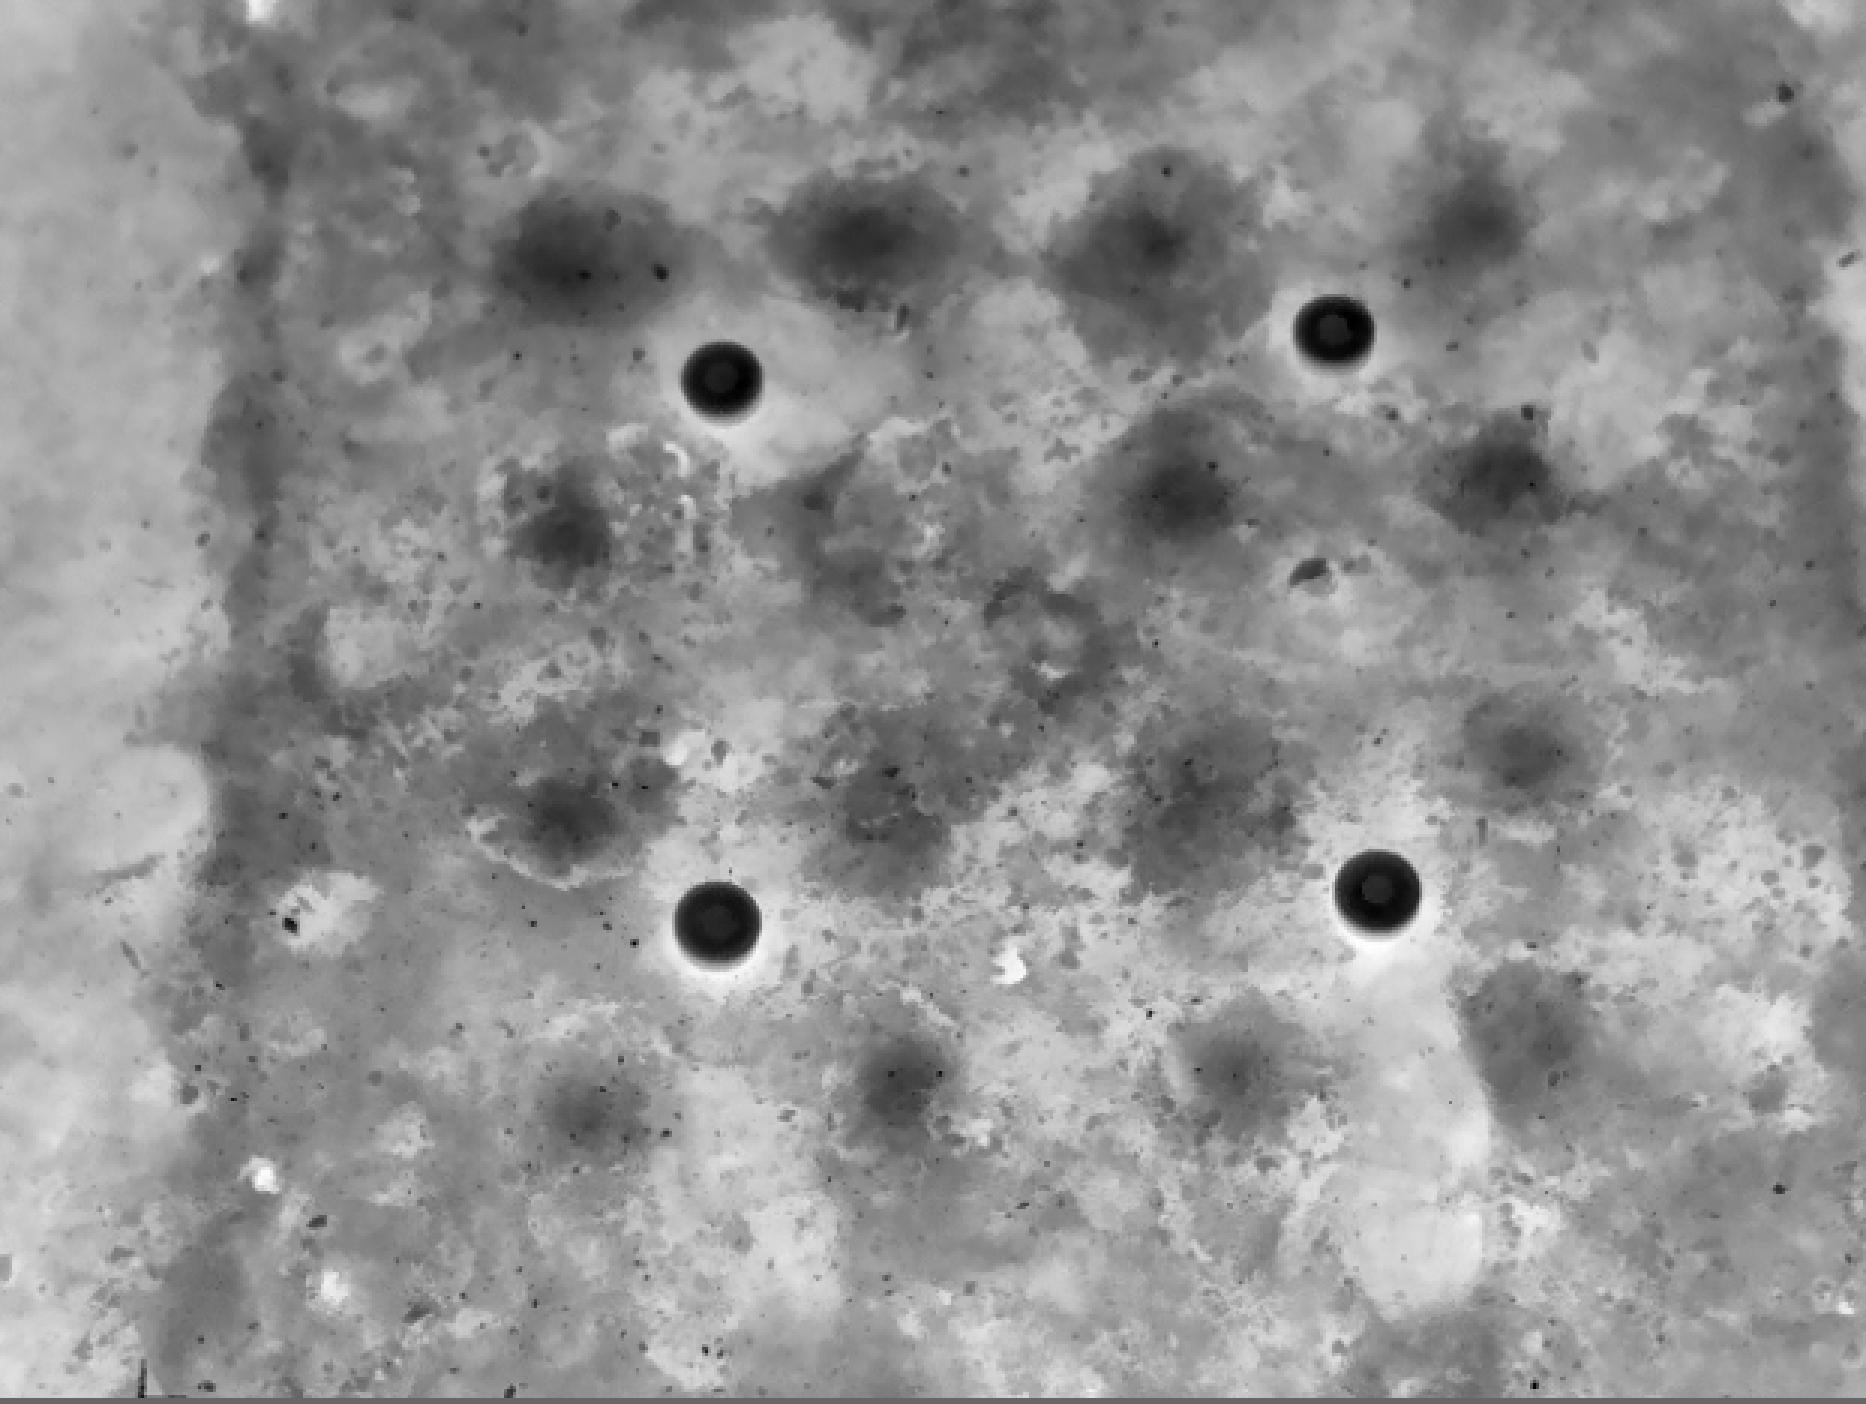mines-gjV8: (1338, 838, 1421, 957), (673, 869, 769, 970), (1303, 288, 1390, 395), (679, 342, 757, 437)
